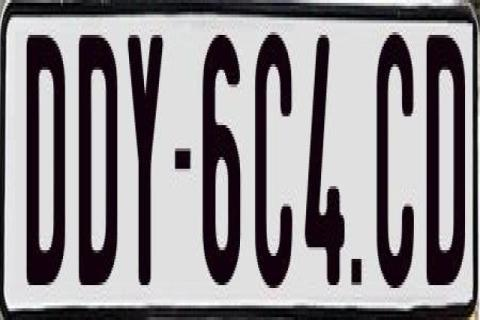0: (302, 35, 346, 294), (201, 35, 240, 294)
C: (255, 23, 293, 285), (374, 24, 412, 282)
D: (78, 32, 121, 296), (27, 29, 65, 297), (427, 35, 464, 294)
Y: (128, 29, 164, 294)
